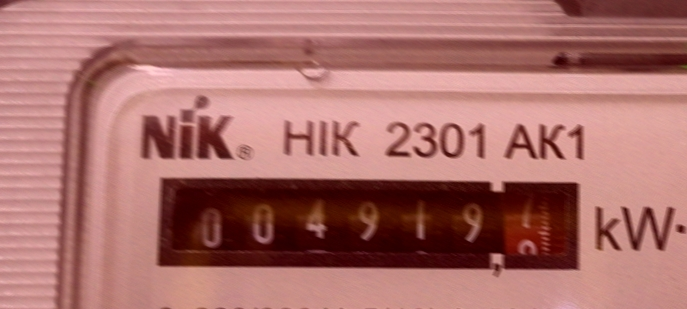0: (249, 201, 275, 246), (198, 205, 222, 249)
1: (411, 197, 427, 242)
4: (302, 196, 326, 240)
7: (513, 191, 536, 231)
9: (459, 200, 483, 246), (355, 200, 379, 244)
screen: (145, 164, 595, 288)
